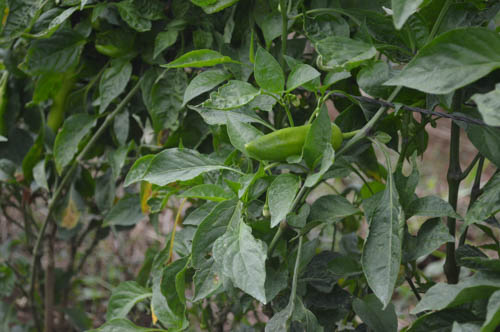ChiliPepper: (243, 123, 341, 164)
